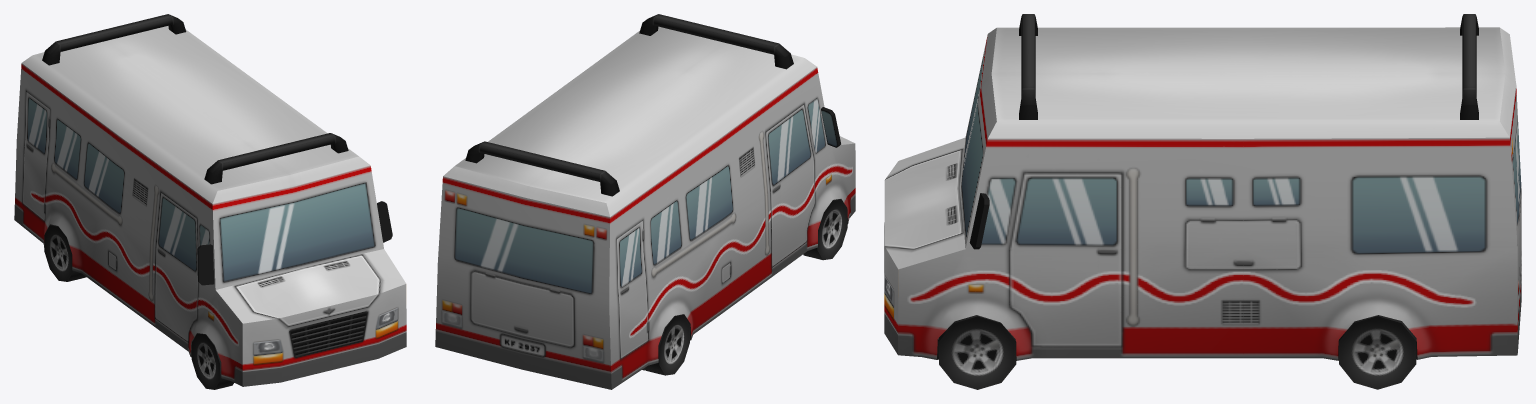
The model's file is camp.glb.
The picture shows the model from 3 angles, left to right: view 1: azimuth 30°, elevation 25°; view 2: azimuth 150°, elevation 25°; view 3: azimuth 270°, elevation 25°; orthographic projection. The views are drawn at different scales.
Parts seen in each view (by area): view 1: car02, trunk_1, trunk, car02_wheel06, car02_wheel04; view 2: car02, trunk_1, trunk, car02_wheel04, car02_wheel06; view 3: car02, car02_wheel01, car02_wheel05, trunk, trunk_1.
Boxes of the visible parts, x1,y1,x2,y2 form: car02: (14,26,406,386); trunk_1: (204,133,348,184); trunk: (42,14,186,65); car02_wheel06: (191,333,233,389); car02_wheel04: (44,224,85,281); car02: (435,26,855,389); trunk_1: (639,14,793,69); trunk: (465,141,619,196); car02_wheel04: (644,314,689,375); car02_wheel06: (803,199,847,260); car02: (884,27,1521,360); car02_wheel01: (1339,315,1416,389); car02_wheel05: (939,315,1016,389); trunk: (1460,14,1478,119); trunk_1: (1019,14,1037,119).
Bounding box in the file's own units: 2.37 × 2.4 × 4.97.
Materials: 1 (1 with a texture image).
